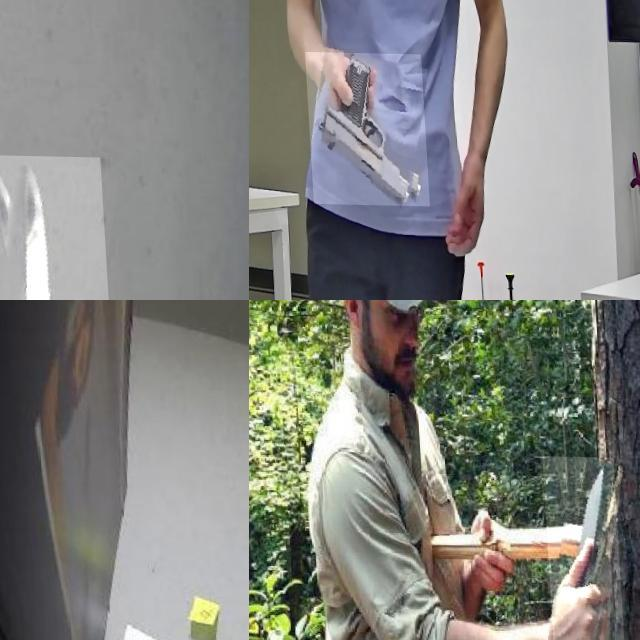-: (0, 153, 115, 300), (539, 453, 619, 640)
gun-knife-thesis - v11 Yolov5 augmented: (302, 51, 425, 205)
